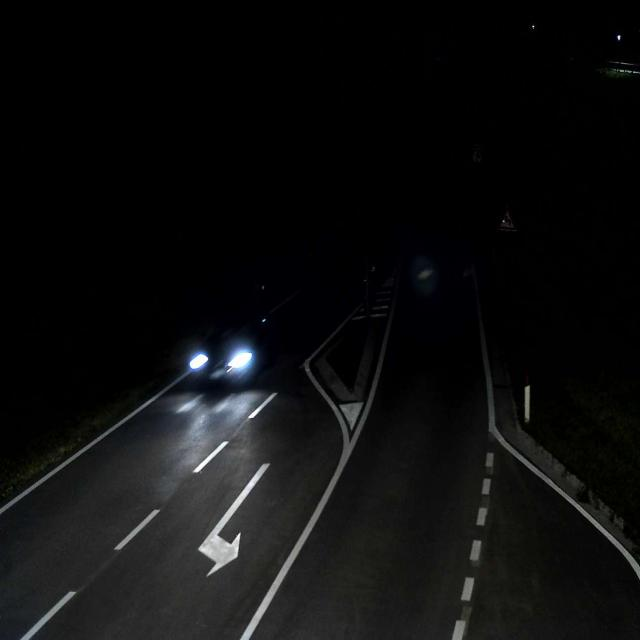car: (186, 316, 272, 389)
